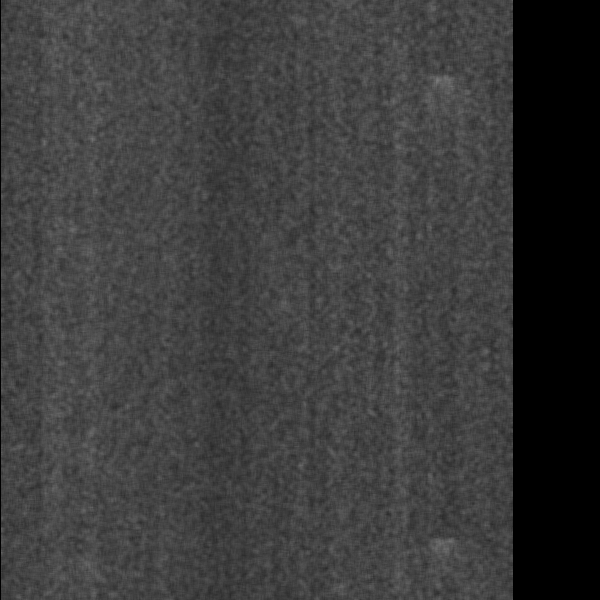spark: (168, 390, 237, 440), (183, 205, 248, 255), (1, 450, 27, 498), (286, 436, 336, 458), (4, 192, 48, 217), (282, 128, 321, 156), (294, 295, 321, 327), (3, 239, 41, 256), (3, 28, 31, 48)
